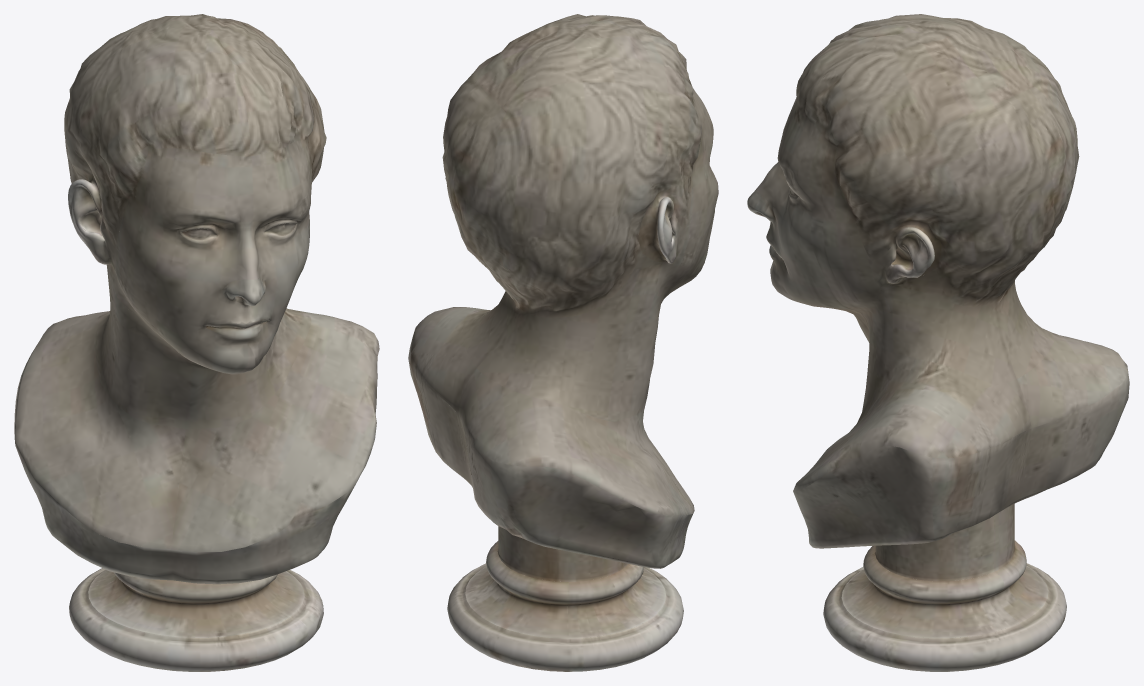
Rendered from bust.glb.
3 views of the same model, side by side, from view 1: azimuth 30°, elevation 25°; view 2: azimuth 150°, elevation 25°; view 3: azimuth 270°, elevation 25° (orthographic). The views are drawn at different scales.
Parts seen in each view (by area): view 1: marble_bust_01; view 2: marble_bust_01; view 3: marble_bust_01.
Boxes of the visible parts, x1,y1,x2,y2 form: marble_bust_01: [14, 14, 379, 671]; marble_bust_01: [408, 14, 718, 671]; marble_bust_01: [747, 14, 1129, 671].
Size of the model in its own units: 0.2717 by 0.5149 by 0.2997.
Materials: 1 (1 with a texture image).
